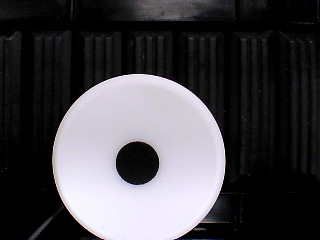BOHO: (52, 74, 227, 240)
